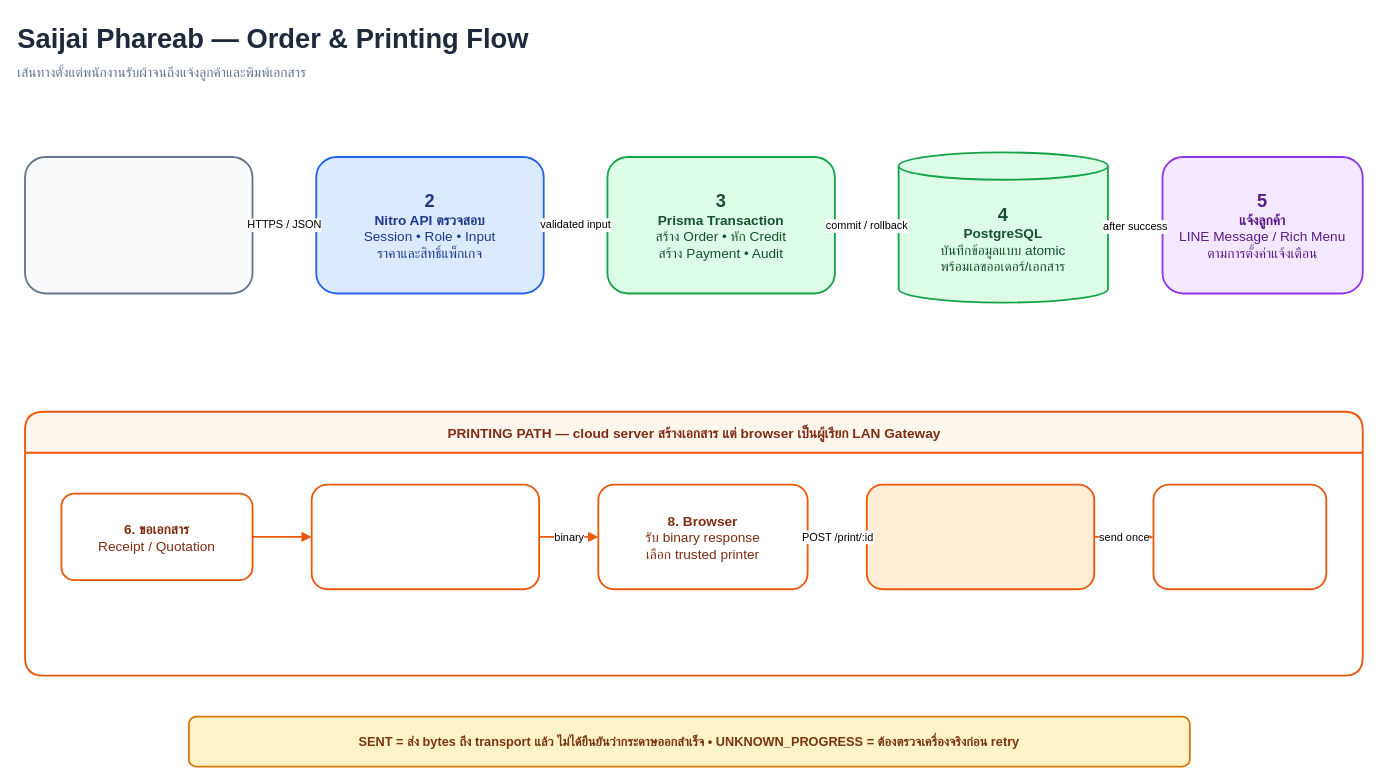
Some shapes in this 1379 by 783 pixel diagram are drawn without their labels. The shapes that lost their labels are listed below. From the top down, each one's box as (x1, y1, x2, y2) in pixels, then its label:
(24, 156, 253, 294): 1 พนักงานสร้างออเดอร์ เลือกบริการ ลูกค้า แพ็กเกจ วันนัดรับ และการชำระเงิน
(310, 483, 540, 590): 7. Server Render Trusted payment/order data Hybrid ESC/POS bytes
(865, 483, 1095, 590): 9. LAN Gateway CORS • private client • mutex bounded payload • no retry
(1152, 483, 1327, 590): 10. Thermal Printer TCP port 9100 พิมพ์และตัดกระดาษ
